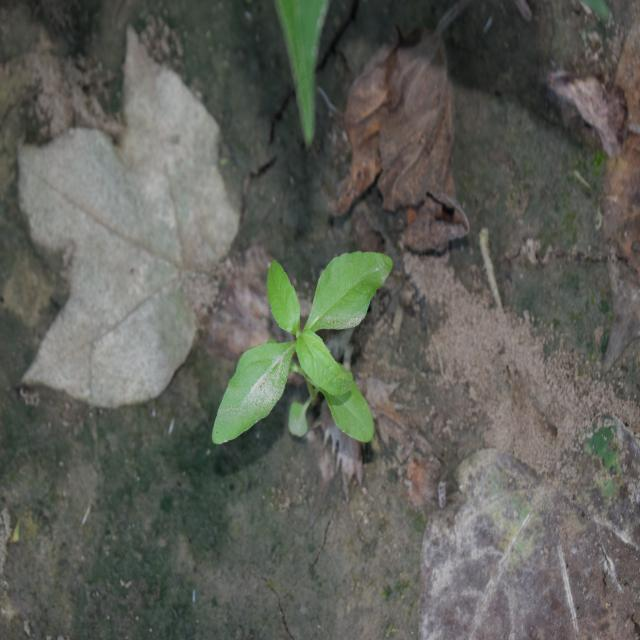Eclipta: (211, 249, 394, 448)
